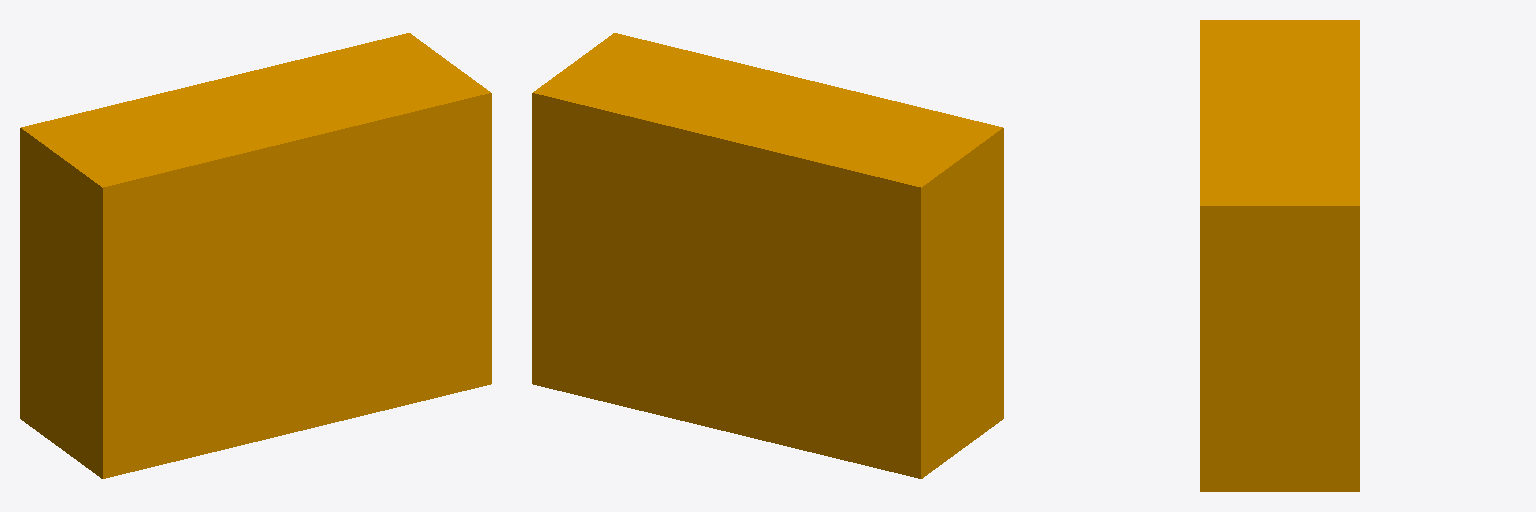
URDF robot description (oreo):
<?xml version="1.0"?>
<robot name="oreo">
    <link name="oreo_base_link">
        <contact>
            <lateral_friction value="1.0"/>
            <spinning_friction value="0.01"/>
            <rolling_friction value="0.01"/>
            <contact_cfm value="0.0"/>
            <contact_erp value="1.0"/>
        </contact>
        <inertial>
            <origin rpy="0 0 0" xyz="0 0 0"/>
            <mass value="0.139"/>
            <inertia ixx="1" ixy="0" ixz="0" iyy="1" iyz="0" izz="1"/>
        </inertial>
        <visual>
            <origin rpy="0 0 0" xyz="0 0 0"/>
            <geometry>
                <mesh filename="cuboid/visual/oreo.obj" scale="0.01 0.01 0.01"/>
            </geometry>
        </visual>
        <collision>
            <origin rpy="0 0 0" xyz="0 0 0"/>
            <geometry>
                <mesh filename="cuboid/collision/oreo.stl" scale="0.01 0.01 0.01"/>
            </geometry>
        </collision>
    </link>
</robot>

--- What the picture shows (computed from the rendered views, not written in the file) ---
The picture shows the robot from 3 angles, left to right: view 1: azimuth 30°, elevation 25°; view 2: azimuth 150°, elevation 25°; view 3: azimuth 270°, elevation 25°; orthographic projection.
Robot: oreo — 1 links, 0 joints (none); root link oreo_base_link; default pose: every joint at zero.
Links seen in each view (by area): view 1: oreo_base_link; view 2: oreo_base_link; view 3: oreo_base_link.
Link boxes in pixels (x1,y1,x2,y2): oreo_base_link: (20,33,491,478); oreo_base_link: (532,33,1003,478); oreo_base_link: (1200,20,1359,491).
Bounding box of the posed robot: 0.134 × 0.049 × 0.096 m (x, y, z).
Meshes: 1 distinct files referenced, 1 mesh visuals loaded (1 OBJ).